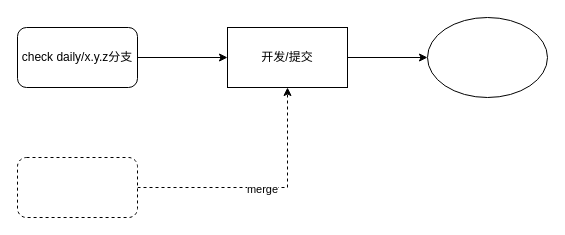
This 565x235 diagram has some shape labels left out. Here are the shapes that lost their labels. From the top down, the box of each, then its label:
(426, 16, 548, 98): 自动化部署测试环境
(16, 156, 138, 218): check feture分支 【可选】
